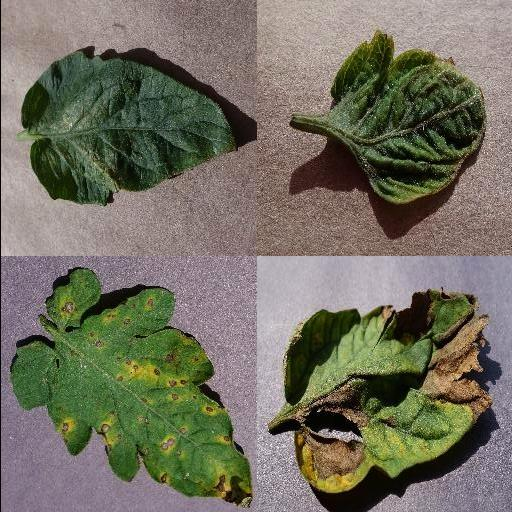Late Blight: (280, 289, 492, 495)
Septoria: (8, 267, 252, 508)
Spider Mites: (19, 53, 237, 205)
Yellow Leaf Curl Virus: (329, 28, 485, 206)
